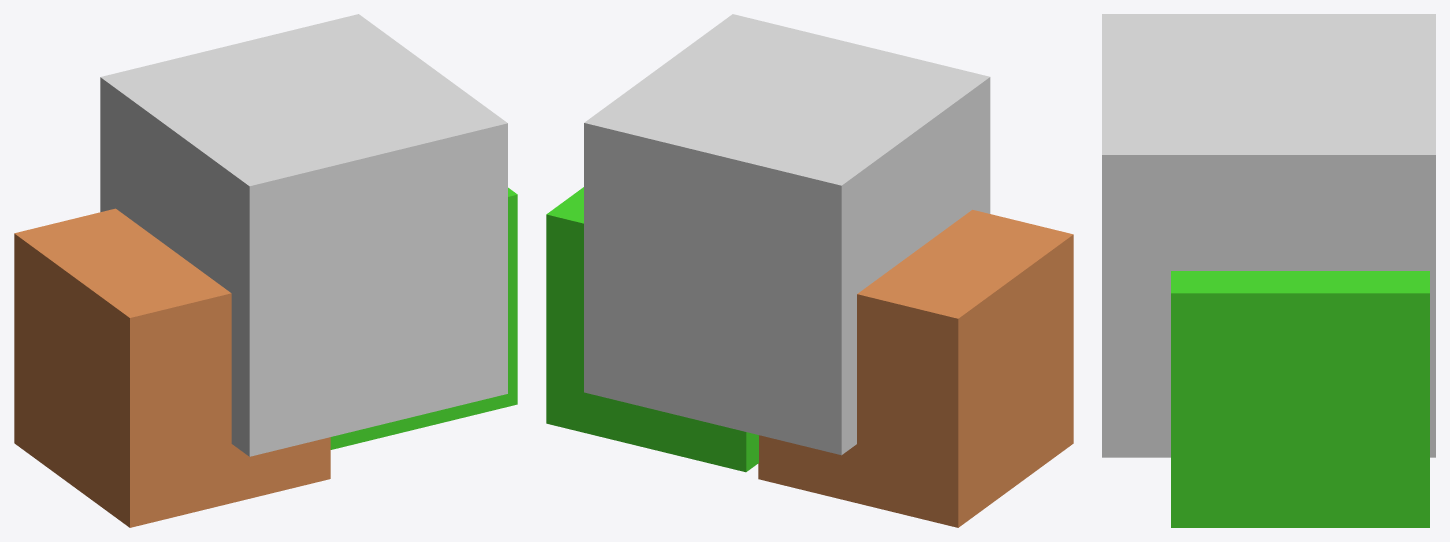
File: clipping.glb
3 views of the same model, side by side, from view 1: azimuth 30°, elevation 25°; view 2: azimuth 150°, elevation 25°; view 3: azimuth 270°, elevation 25° (orthographic). The views are drawn at different scales.
Parts seen in each view (by area): view 1: clip_other_objects, cube2_videotarget, cube1; view 2: clip_other_objects, cube2_videotarget, cube1; view 3: clip_other_objects, cube1.
Part boxes in pixels (bbox=[...]): clip_other_objects: bbox=[100, 14, 507, 456]; cube2_videotarget: bbox=[14, 208, 330, 527]; cube1: bbox=[330, 187, 517, 449]; clip_other_objects: bbox=[584, 14, 990, 455]; cube2_videotarget: bbox=[758, 209, 1073, 527]; cube1: bbox=[546, 187, 758, 472]; clip_other_objects: bbox=[1102, 14, 1435, 457]; cube1: bbox=[1171, 271, 1429, 527].
Size of the model in its own units: 1.69 by 1.33 by 1.09.
